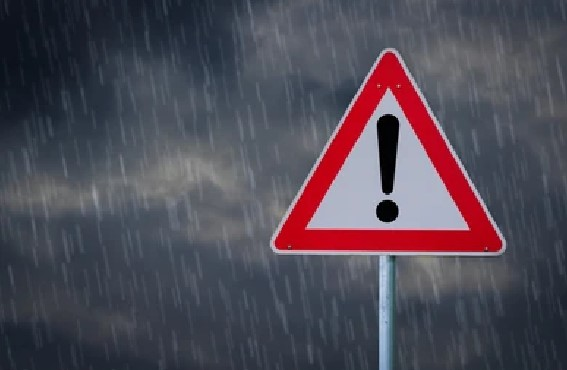Danger: (269, 44, 508, 263)
